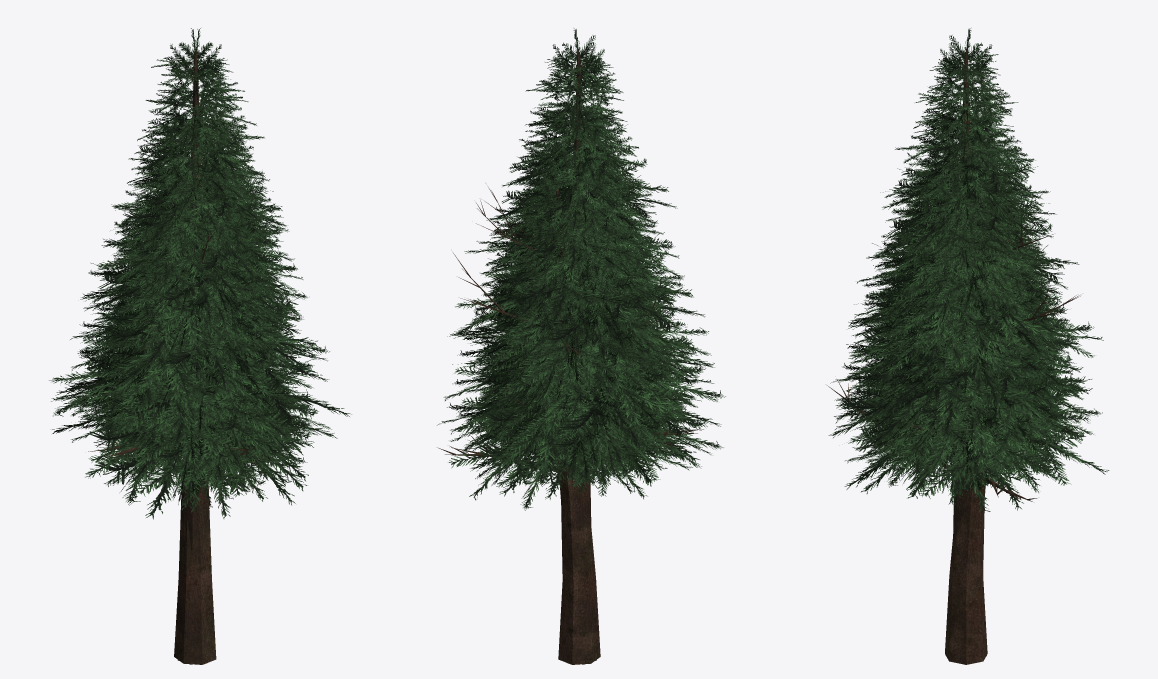
File: drzewa.glb
3 views of the same model, side by side, from view 1: azimuth 30°, elevation 25°; view 2: azimuth 150°, elevation 25°; view 3: azimuth 270°, elevation 25° (orthographic).
Visible parts, largest first — view 1: spruce_c_foliage, spruce_a_foliage, spruce_b_foliage, dead_a_trunk, spruce_c_trunk; view 2: spruce_c_foliage, spruce_a_foliage, spruce_b_foliage, dead_a_trunk, spruce_c_trunk; view 3: spruce_c_foliage, spruce_a_foliage, spruce_b_foliage, dead_a_trunk, spruce_c_trunk.
Part boxes in pixels (x1,y1,x2,y2): spruce_c_foliage: [49, 28, 351, 512]; spruce_a_foliage: [55, 99, 337, 519]; spruce_b_foliage: [78, 183, 313, 518]; dead_a_trunk: [88, 226, 292, 664]; spruce_c_trunk: [184, 49, 208, 558]; spruce_c_foliage: [437, 28, 725, 500]; spruce_a_foliage: [447, 96, 721, 485]; spruce_b_foliage: [465, 166, 692, 510]; dead_a_trunk: [437, 184, 703, 664]; spruce_c_trunk: [573, 49, 591, 540]; spruce_c_foliage: [828, 28, 1109, 511]; spruce_a_foliage: [835, 98, 1092, 498]; spruce_b_foliage: [845, 180, 1084, 510]; dead_a_trunk: [827, 189, 1080, 664]; spruce_c_trunk: [953, 49, 970, 543].
Size of the model in its own units: 6.35 by 12 by 6.14.
2 materials, 2 textured.
